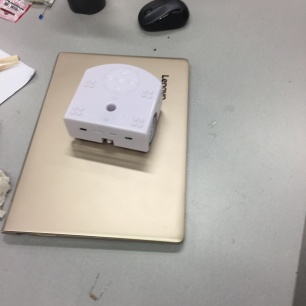thymio: (62, 59, 167, 158)
